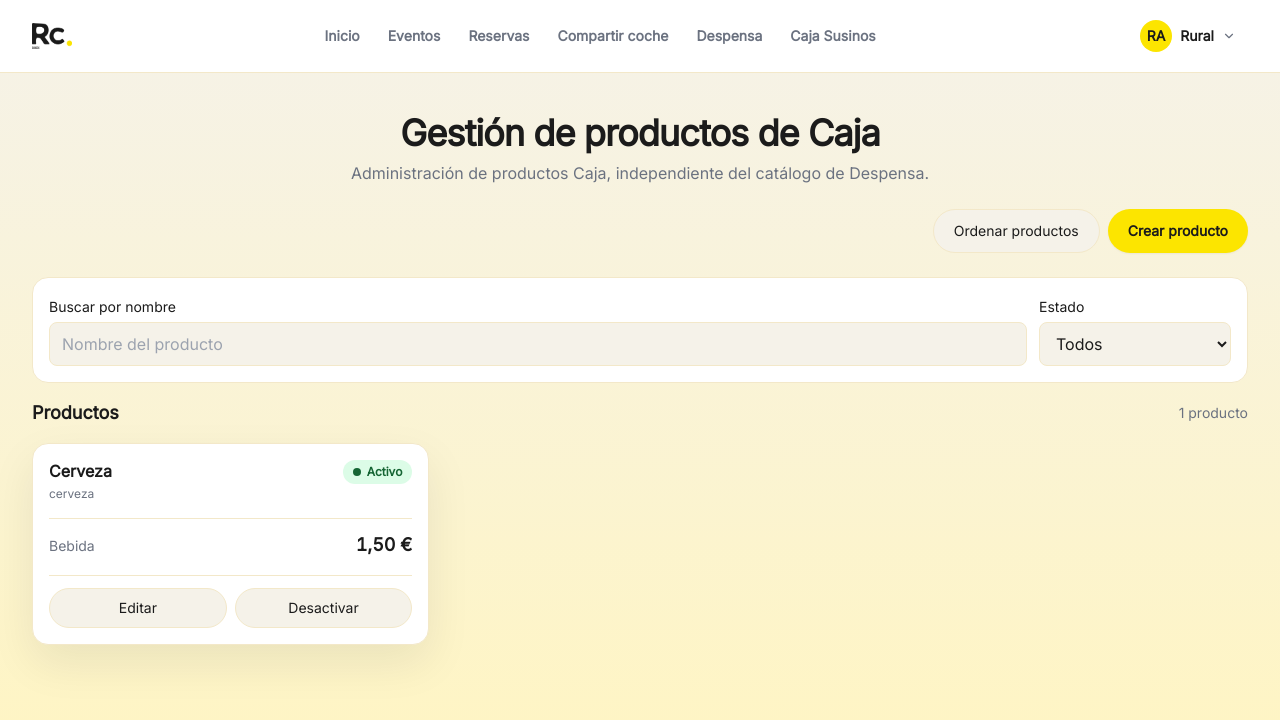
Caja product administration UI › shows edit API errors and does not refresh the list
The image size is (1280, 720).
Click the button "Editar". click: (138, 608)
box: [49,588,227,628]
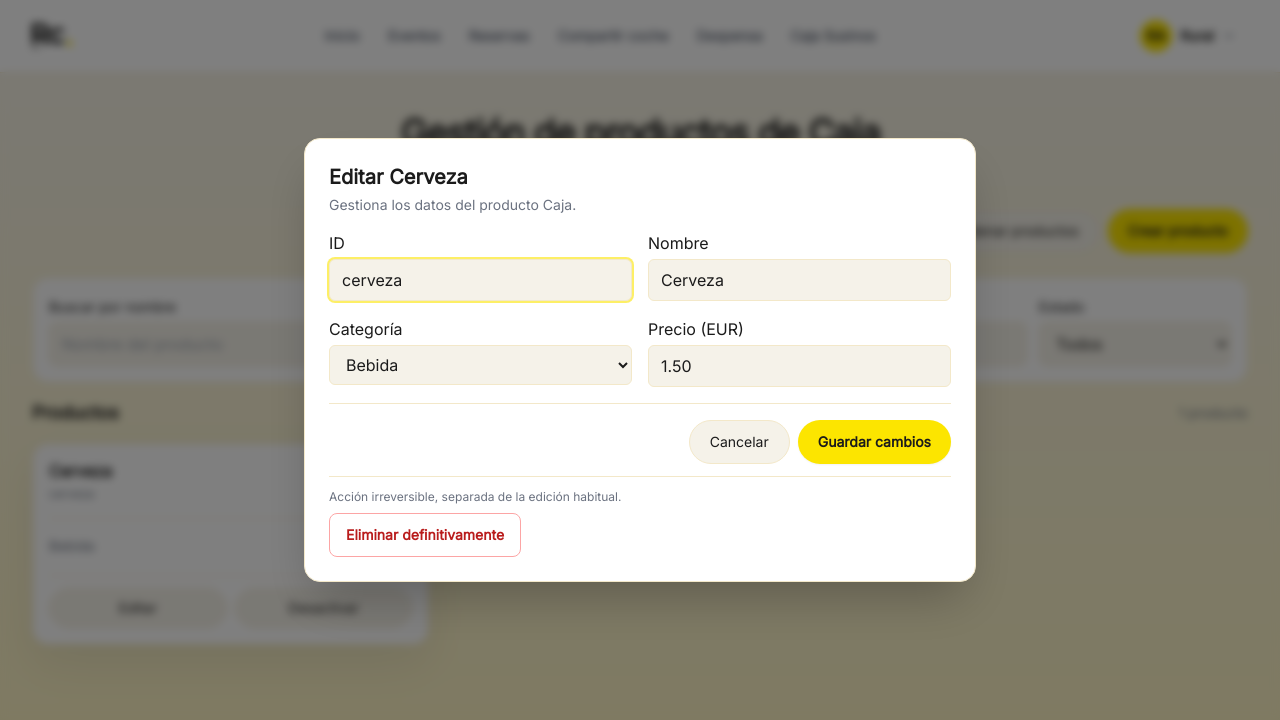
Click the button "Guardar cambios". click: (874, 442)
box: [798,420,951,464]
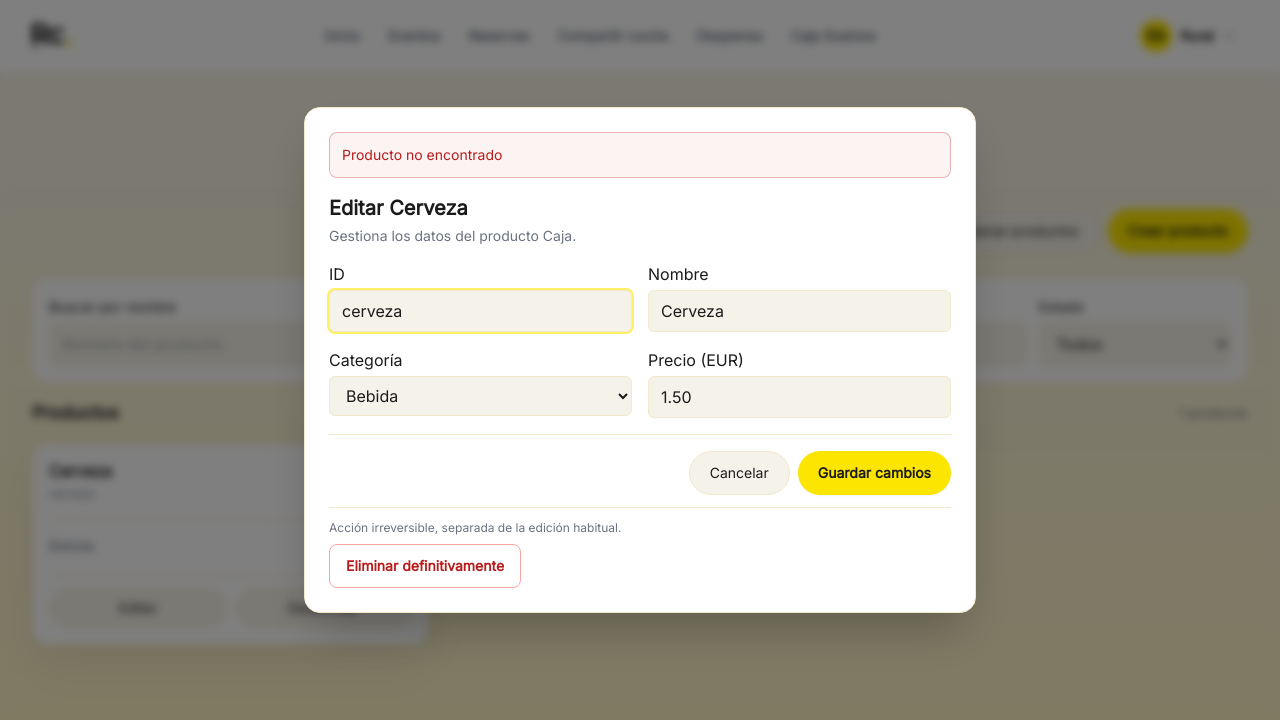
Result: the message reads "Producto no encontrado" at [342,146,502,163]
